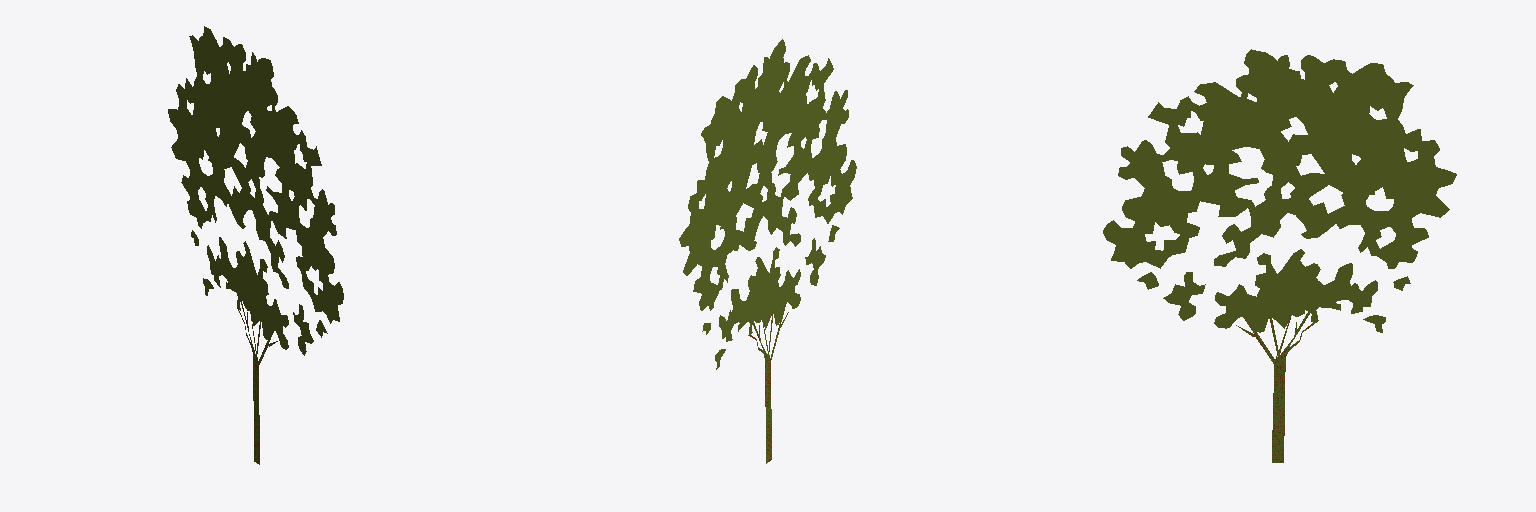
Rendered from tree1.obj.
3 views of the same model, side by side, from view 1: azimuth 30°, elevation 25°; view 2: azimuth 150°, elevation 25°; view 3: azimuth 270°, elevation 25° (orthographic).
Parts seen in each view (by area): view 1: instance_17.004, instance_17.005, instance_17; view 2: instance_17.004, instance_17.005, instance_17; view 3: instance_17.004, instance_17.005, instance_17, instance_17.002.
Part boxes in pixels (x1,y1,x2,y2): instance_17.004: (168, 26, 343, 323); instance_17.005: (207, 237, 288, 349); instance_17: (237, 302, 277, 464); instance_17.004: (679, 39, 856, 310); instance_17.005: (719, 247, 800, 341); instance_17: (749, 306, 788, 463); instance_17.004: (1103, 49, 1456, 268); instance_17.005: (1214, 249, 1377, 332); instance_17: (1236, 312, 1317, 462); instance_17.002: (1163, 272, 1205, 320).
Size of the model in its own units: 0.0153 by 13.22 by 10.3.